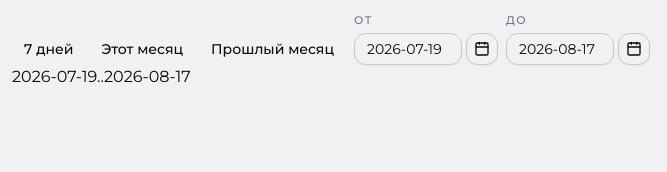
Test: PeriodControl › offers this month and the previous month as shortcuts
Click the button "Этот месяц" at (142, 48), box [90,32,195,64]
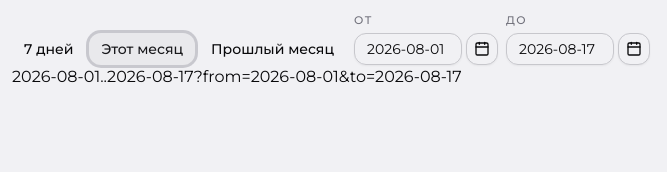
Now the text "2026-08-01..2026-08-17" is shown, box [12,66,194,86]
Click the button "Прошлый месяц" at (273, 48), box [199,32,346,64]
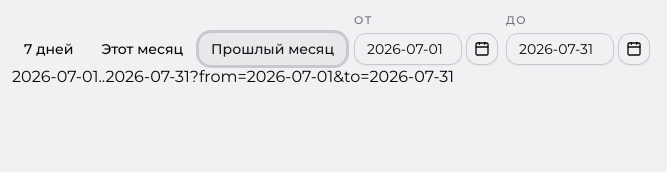
Now the text "2026-07-01..2026-07-31" is shown, box [12,66,190,86]
